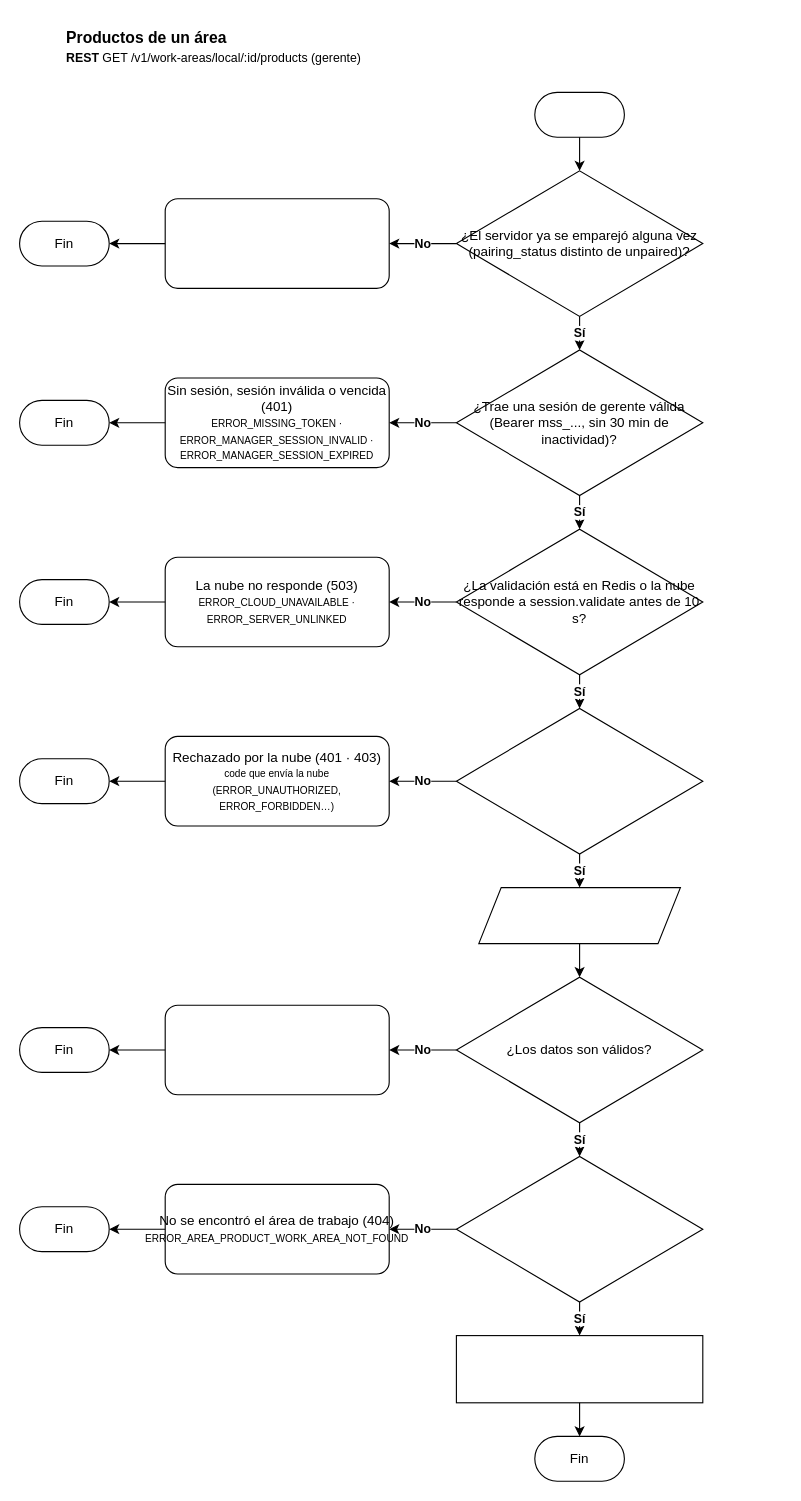
Some shapes in this 801 by 1501 pixel diagram are drawn without their labels. The shapes that lost their labels are listed below. From the top down, each one's centre as x and y in pixels, then its label:
At (x=579, y=114): "Inicio".
At (x=276, y=243): "Servidor sin emparejar (409) ERROR_SERVER_NOT_PAIRED".
At (x=579, y=780): "¿La nube acepta la sesión del gerente con este servidor?".
At (x=579, y=915): "Recibir datos".
At (x=276, y=1049): "Datos inválidos (400) ERROR_BAD_REQUEST".
At (x=579, y=1228): "¿Existe el área de trabajo?".
At (x=579, y=1368): "Responder 200 con el mensaje PRODUCTS_RETRIEVED".
